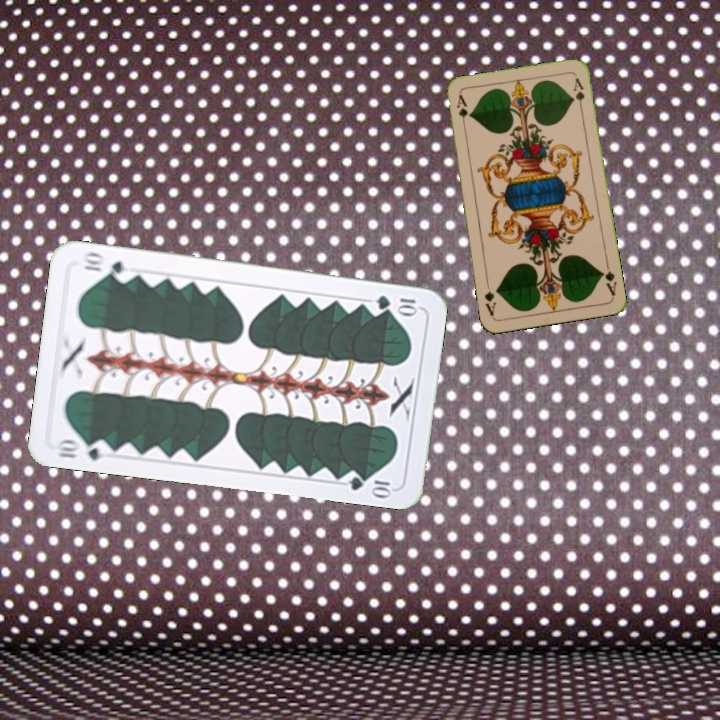G10: (52, 434, 112, 463), (371, 291, 421, 316)
GA: (597, 258, 619, 298), (453, 91, 470, 131)
